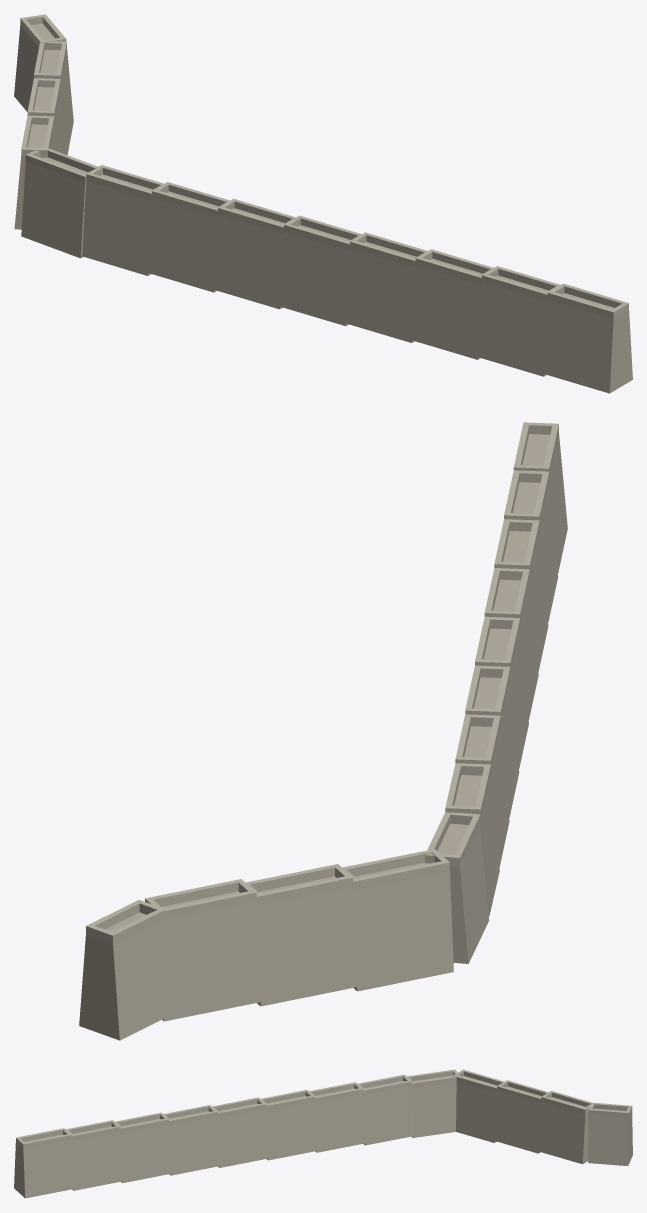
File: bormla_59_33_collision.glb
3 views of the same model, one above another, from view 1: azimuth 30°, elevation 25°; view 2: azimuth 150°, elevation 25°; view 3: azimuth 270°, elevation 25° (orthographic). The views are drawn at different scales.
Visible parts, largest first — view 1: geometry_0; view 2: geometry_0; view 3: geometry_0.
Part boxes in pixels (<box>): geometry_0: <box>14,14,632,393</box>; geometry_0: <box>79,422,567,1040</box>; geometry_0: <box>14,1069,632,1198</box>.
Size of the model in its own units: 49.58 by 16.72 by 139.
